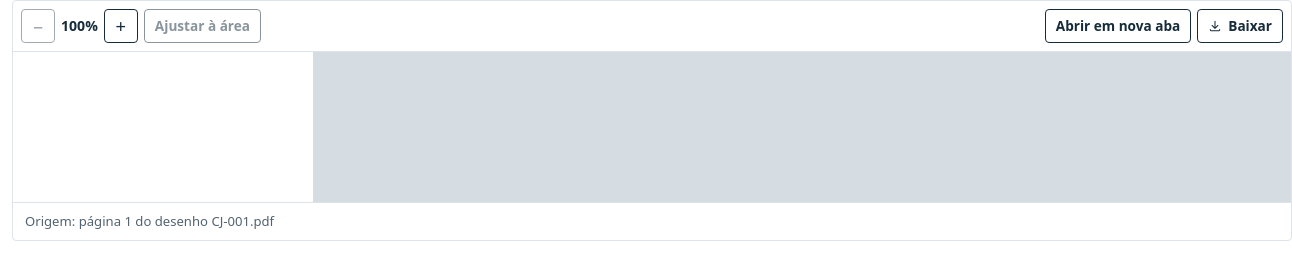
it: PdfViewer › zoom muda de verdade e não passa dos limites; sem navegação de páginas quando há 1 página
Check: the button named "Reduzir zoom" is disabled, box [21,9,55,43]
Click the button named "Ampliar zoom": (121, 26) [104,9,138,43]
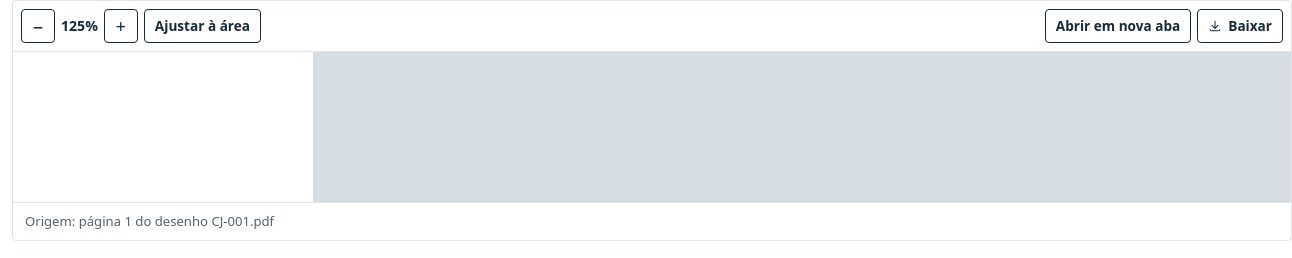
Check: the text "125%" is shown, box [61,15,98,37]
Click the button "Ajustar à área": (202, 26) [144,9,261,43]
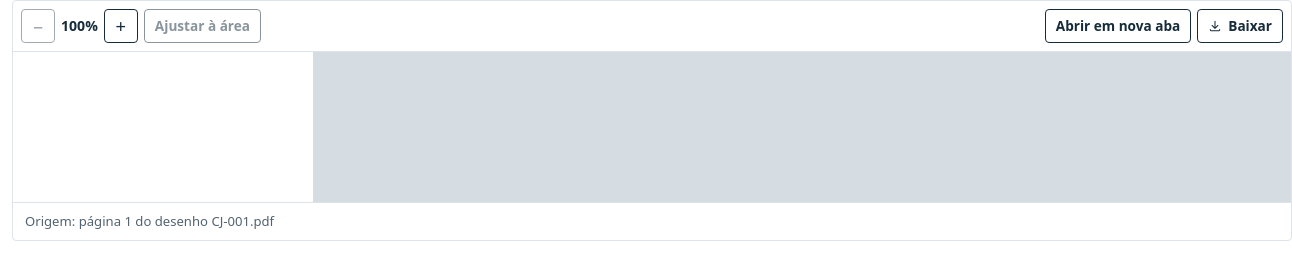
Check: the text "Origem: página 1 do desenho CJ-001.pdf" is shown, box [13,202,1291,240]
Check: the text "100%" is shown, box [61,15,98,37]
